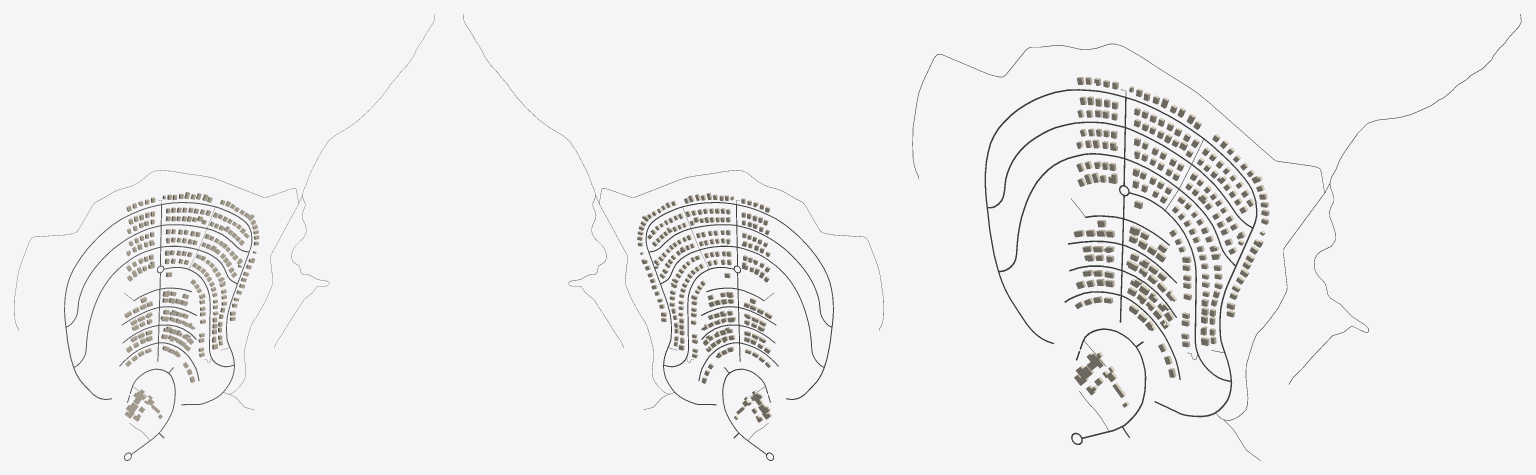
The model's file is historic-palestine-11_31_3534_3253.glb.
3 renders of one model, left to right at view 1: azimuth 30°, elevation 25°; view 2: azimuth 150°, elevation 25°; view 3: azimuth 330°, elevation 25°, orthographic. The views are drawn at different scales.
Visible parts, largest first — view 1: Road רקפת, Road .006; view 2: Road רקפת, Road .006; view 3: Road רקפת, Road .006, Road כלנית, Road צבעוני.
Part boxes in pixels (x1=…): Road רקפת: x1=64, y1=202, x2=252, y2=405; Road .006: x1=14, y1=170, x2=298, y2=394; Road רקפת: x1=645, y1=202, x2=833, y2=405; Road .006: x1=599, y1=170, x2=883, y2=394; Road רקפת: x1=984, y1=89, x2=1257, y2=417; Road .006: x1=912, y1=43, x2=1324, y2=420; Road כלנית: x1=998, y1=153, x2=1235, y2=272; Road צבעוני: x1=987, y1=121, x2=1252, y2=227.
Bounding box in the file's own units: 1399 × 1184 × 8.7.
